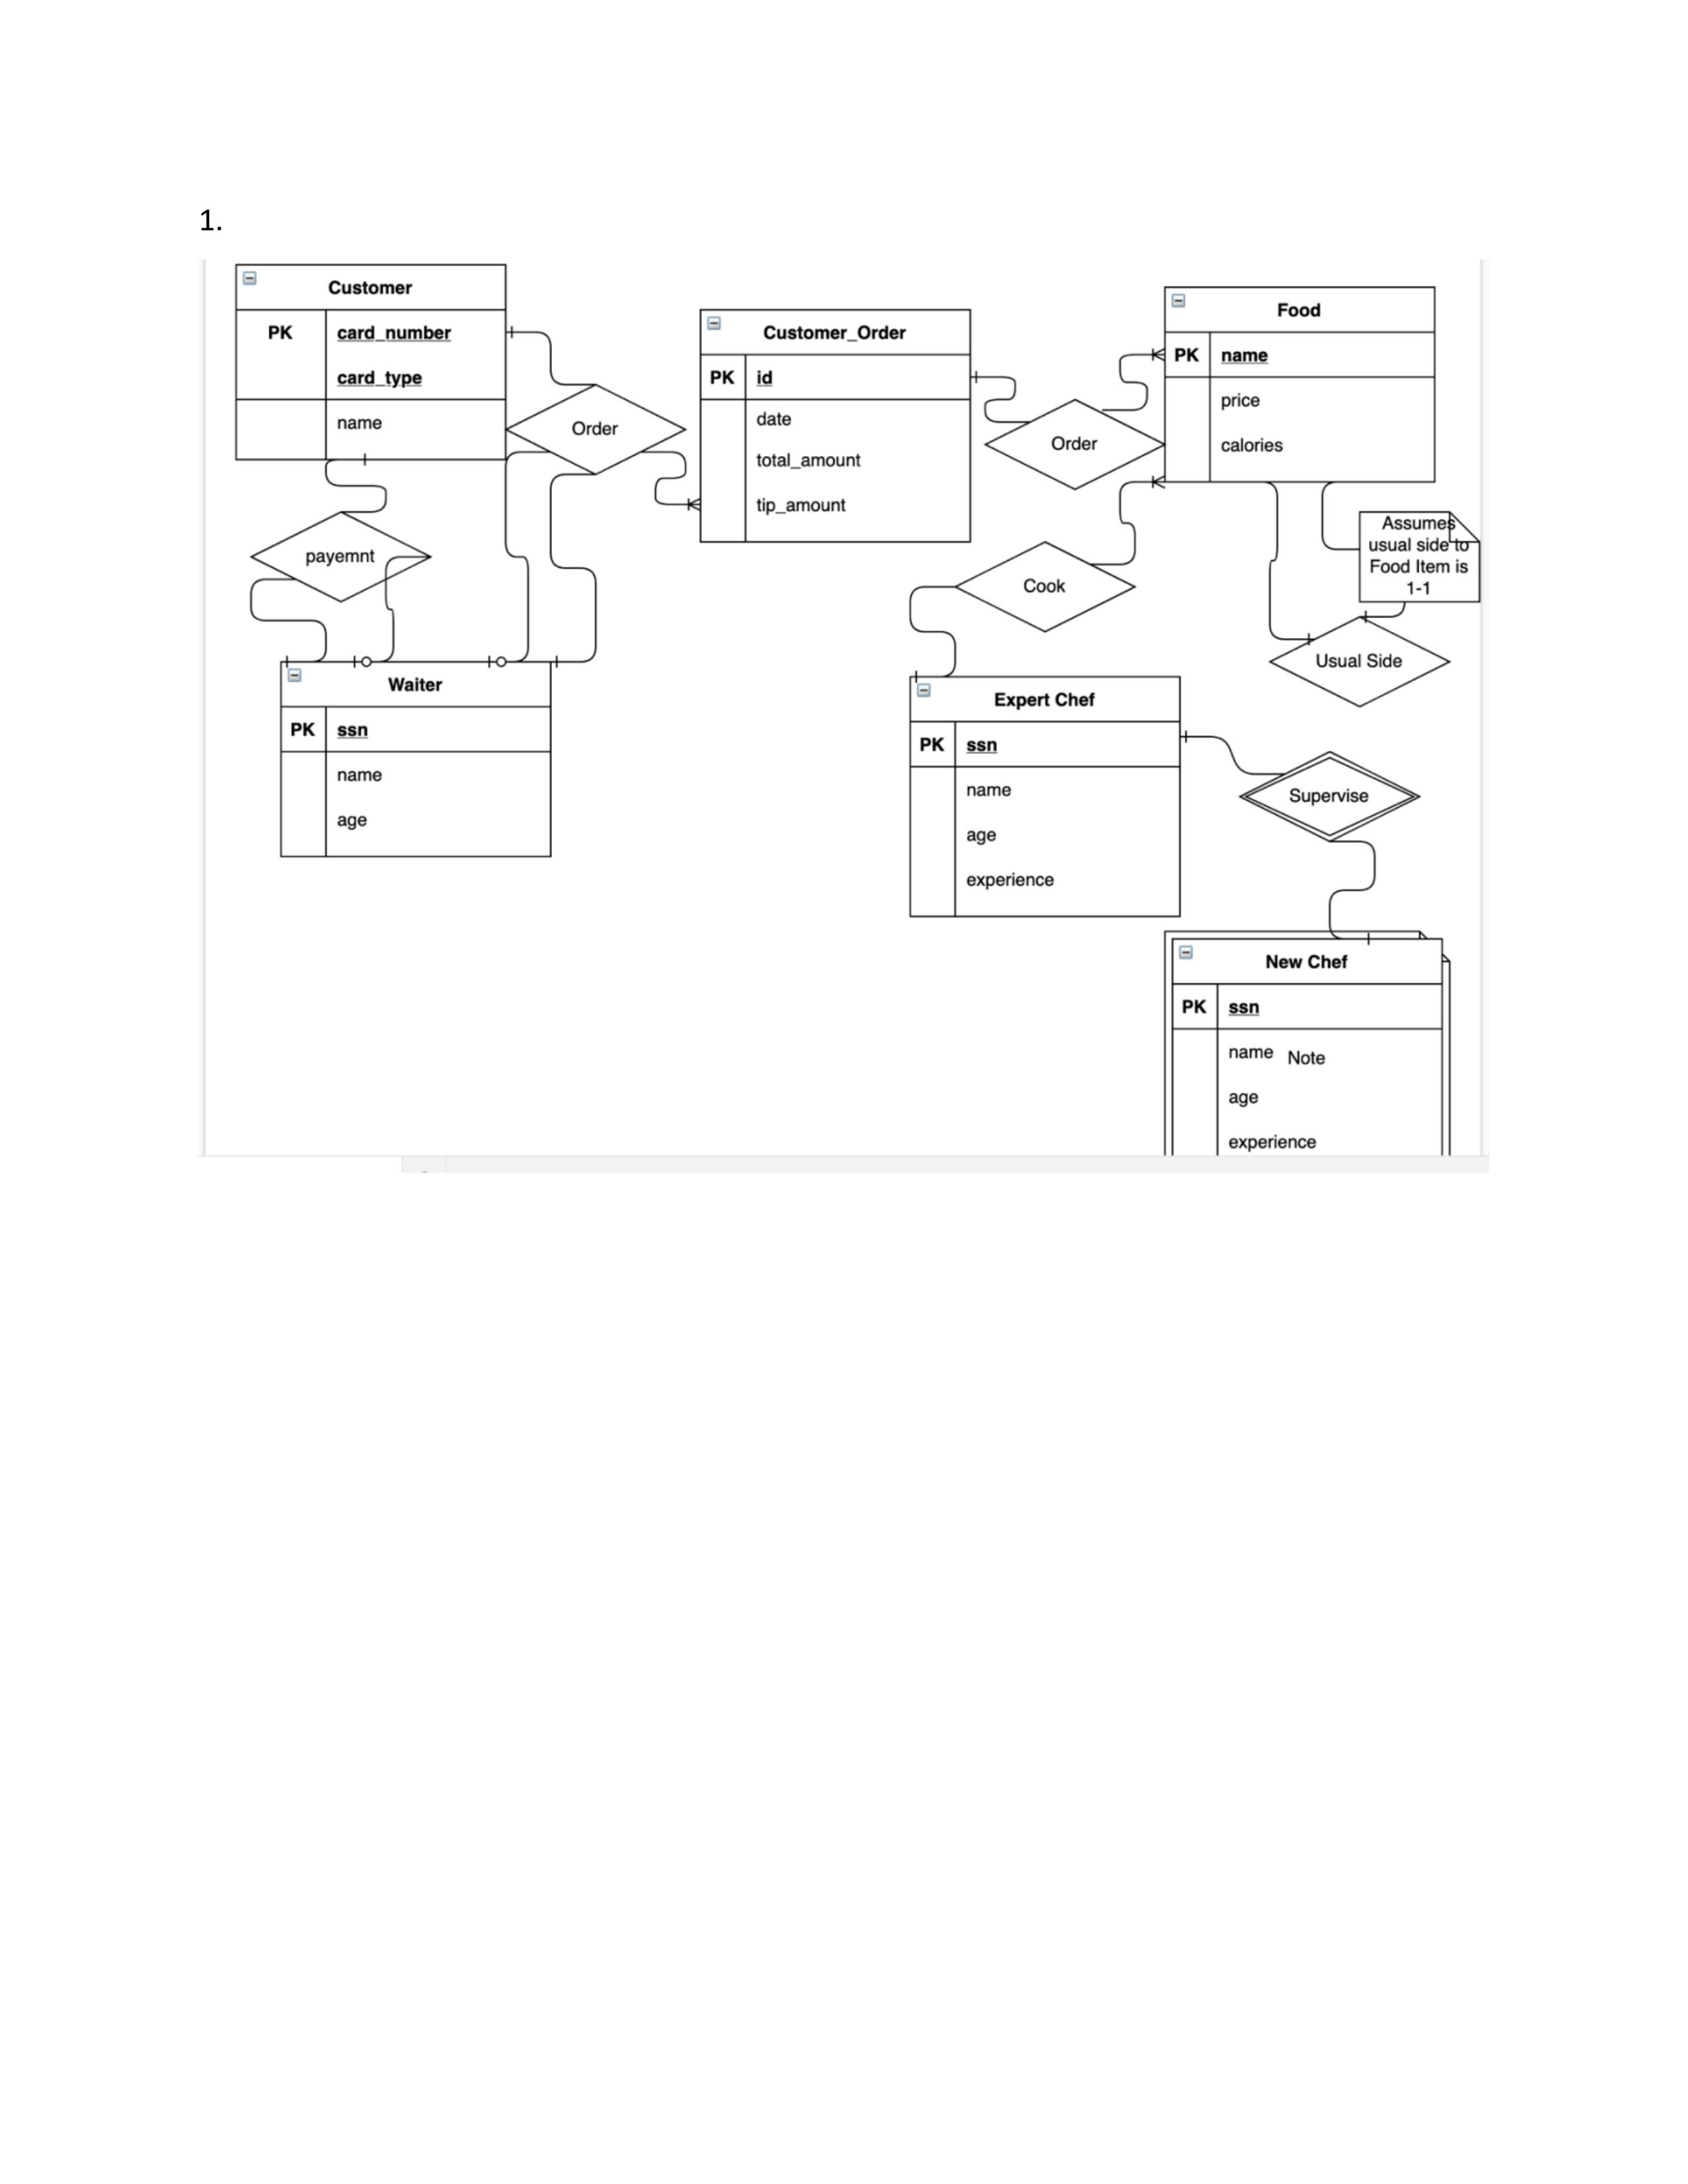Attribute: (1356, 512, 1481, 603)
Entity: (906, 672, 1181, 918), (1163, 929, 1452, 1159), (697, 307, 972, 542), (232, 259, 509, 463), (277, 658, 553, 860), (1161, 285, 1438, 484)
Relationship: (984, 397, 1160, 493), (250, 512, 431, 604), (509, 385, 688, 477), (957, 542, 1135, 633), (1241, 750, 1422, 838), (1271, 617, 1450, 706)
